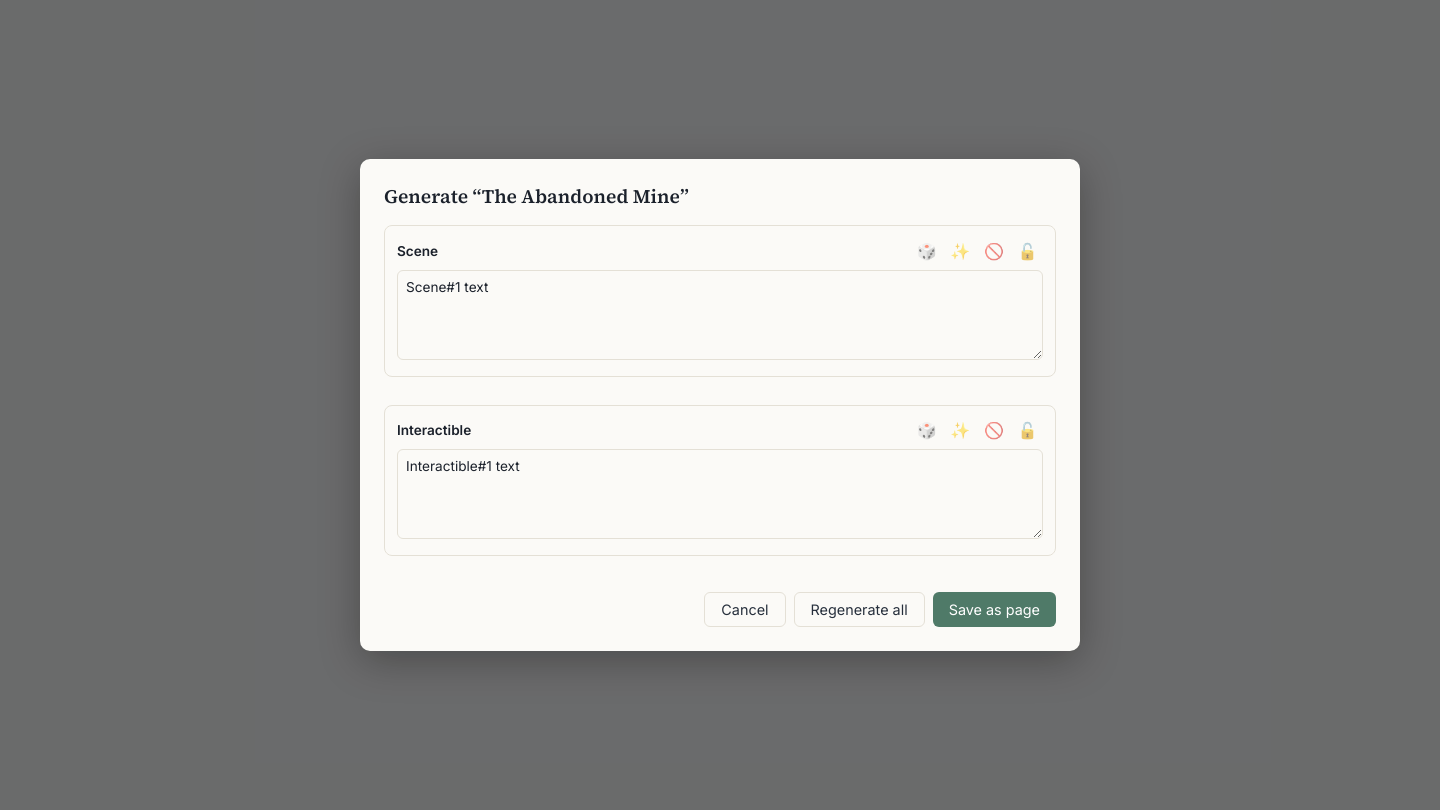
it: AiTemplatePanel › a failed Forget leaves the content alone and does not reroll
Expected: the text box named "Interactible#1" is not empty, 397,449 -> 1043,539
Click the button named "Forget this entry": (994, 251) 978,238 -> 1010,263
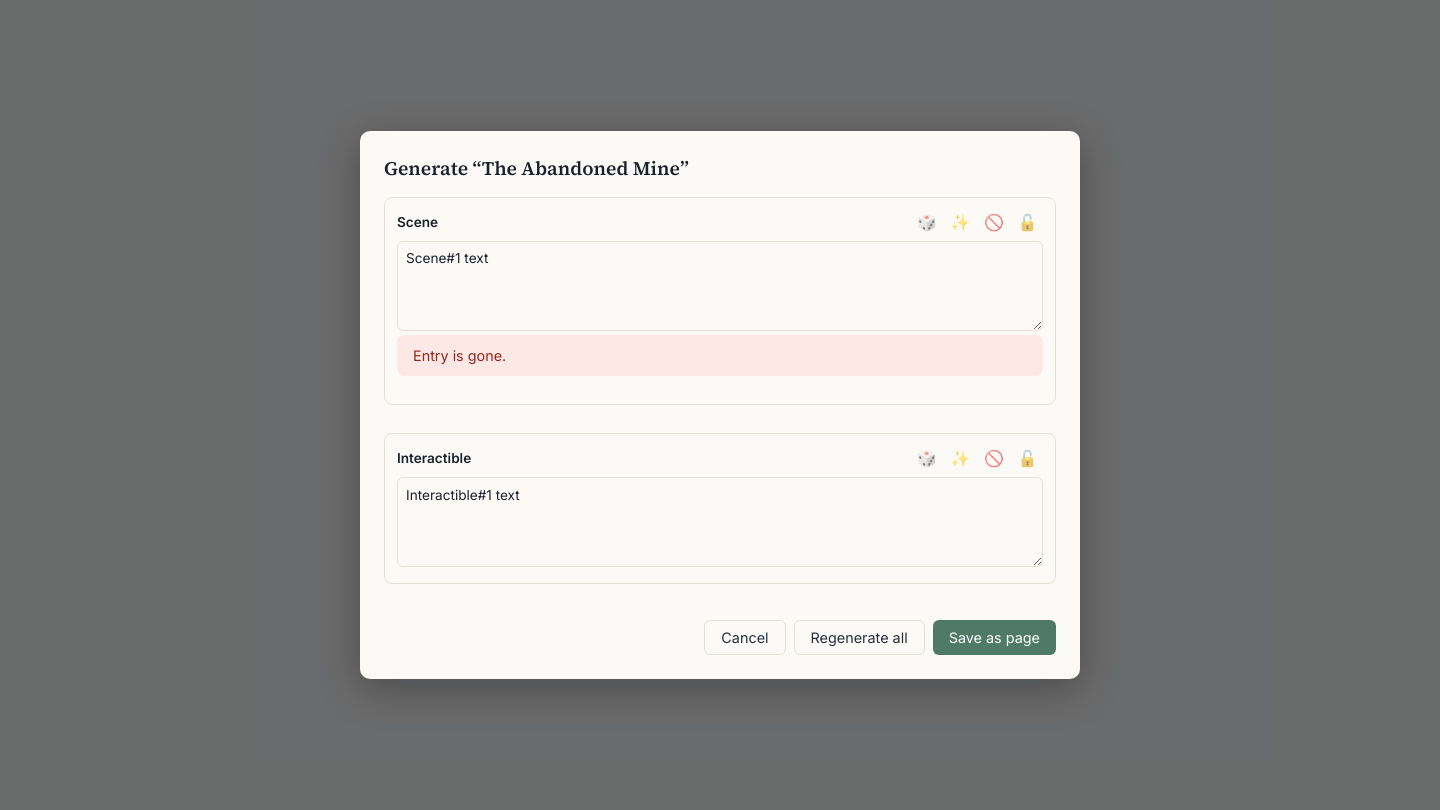
Expected: the text box named "Scene#1" holds "Scene#1 text", 397,241 -> 1043,331
Now the text "Entry is gone." is shown, box 397,335 -> 1043,376
